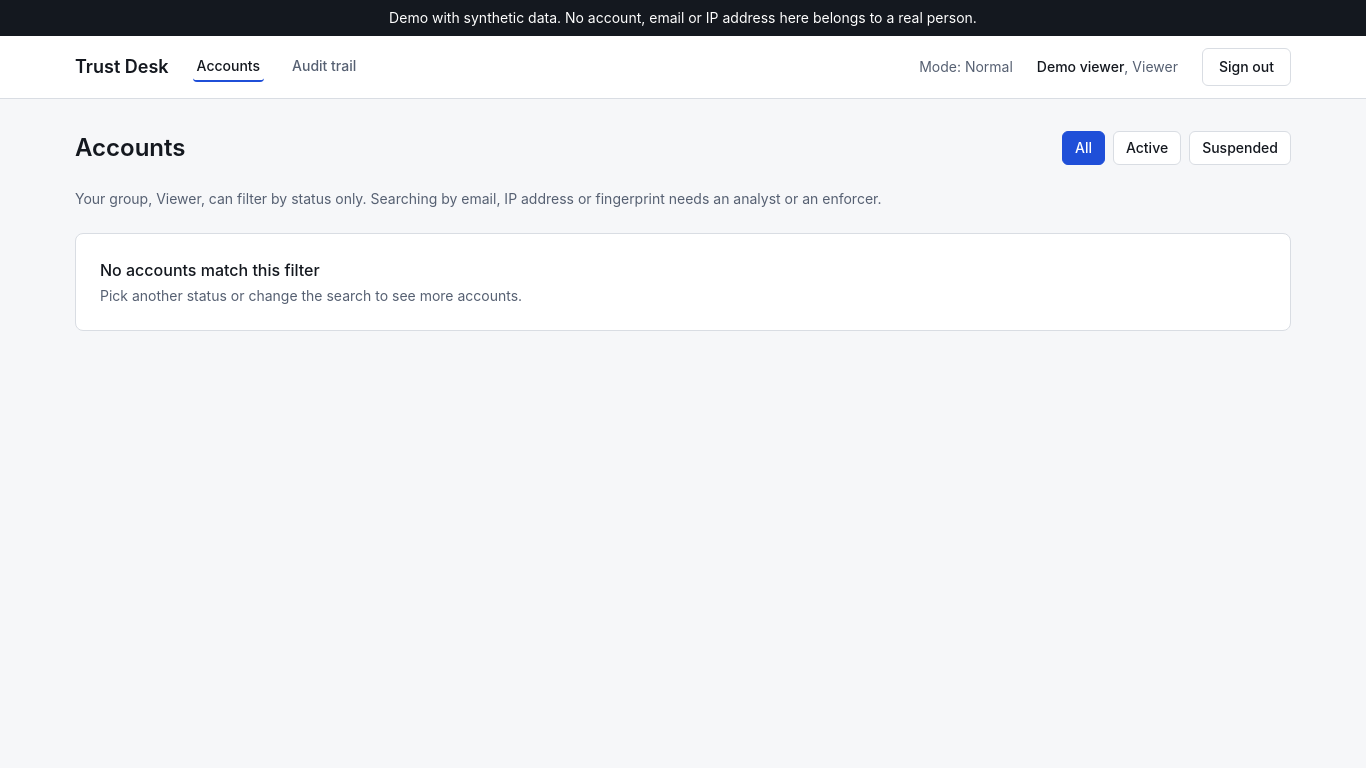
Test: routes › signs out and returns to the login page
What coordinates should you click on to do the following:
click the button "Sign out"
I would click on:
 (1246, 67)
Its box is [1202,48,1291,86].
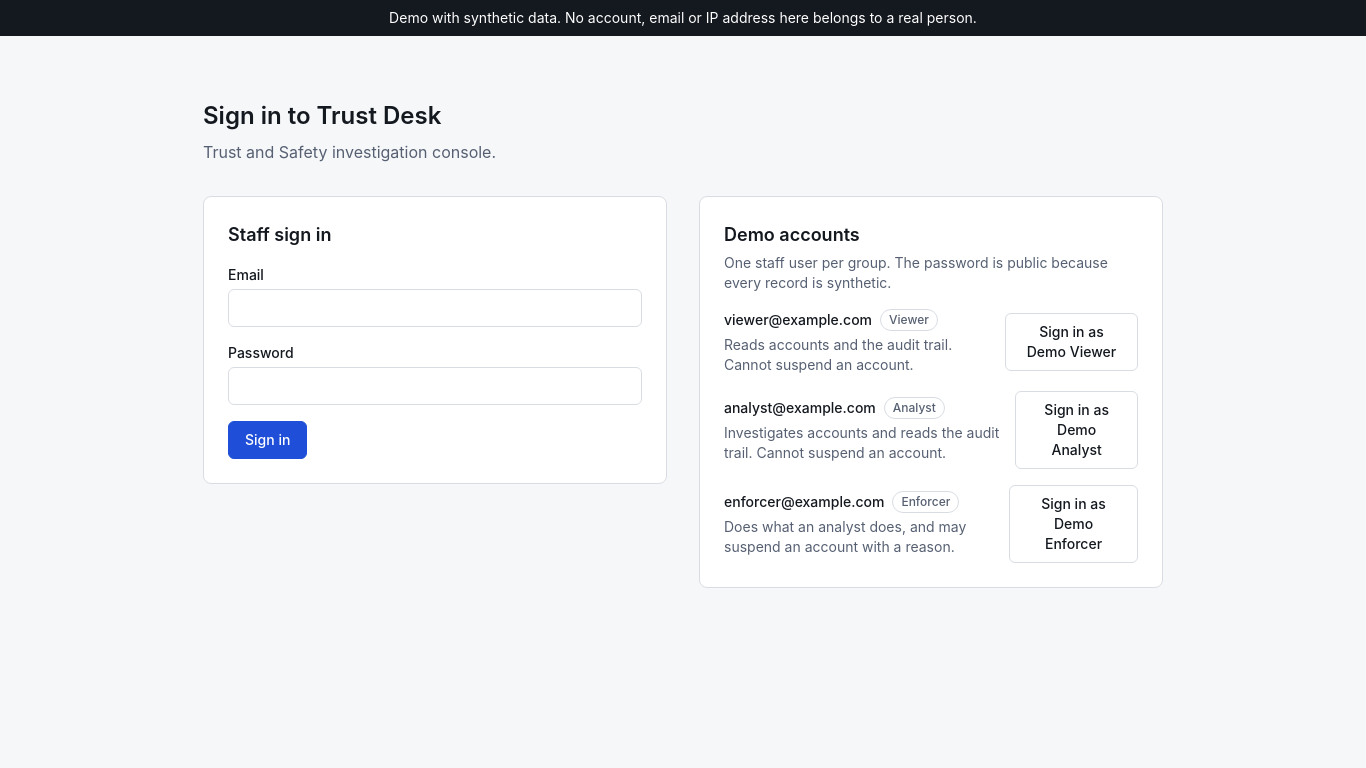
Expected: the heading "Sign in to Trust Desk" is shown, [203,101,441,130]
